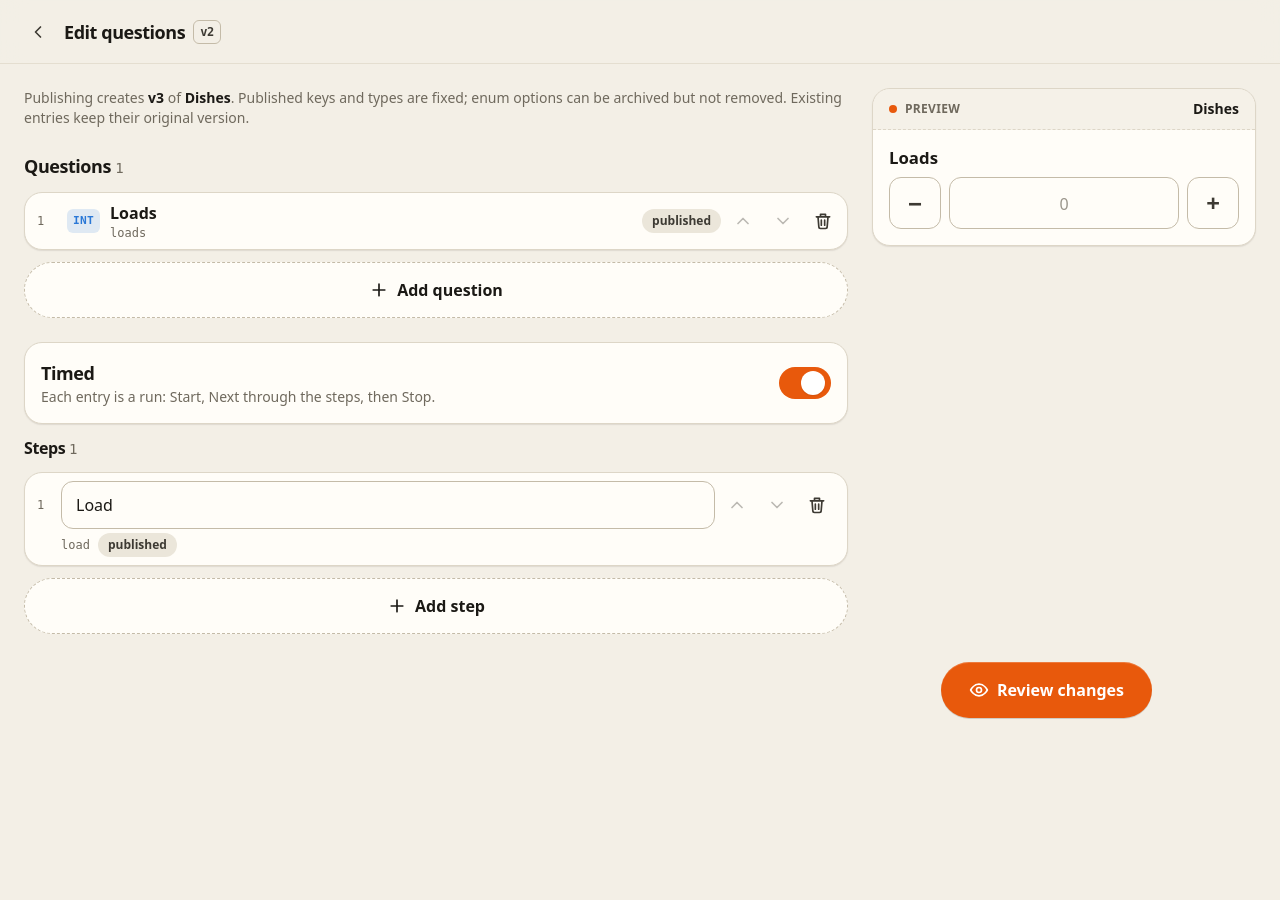
Test case: EditQuestionsPage publish › renames, adds and reorders steps; a published step keeps its key
Replace the text in the field named "Step 1 name" with "Unload" at [388, 505], box [61,481,715,529]
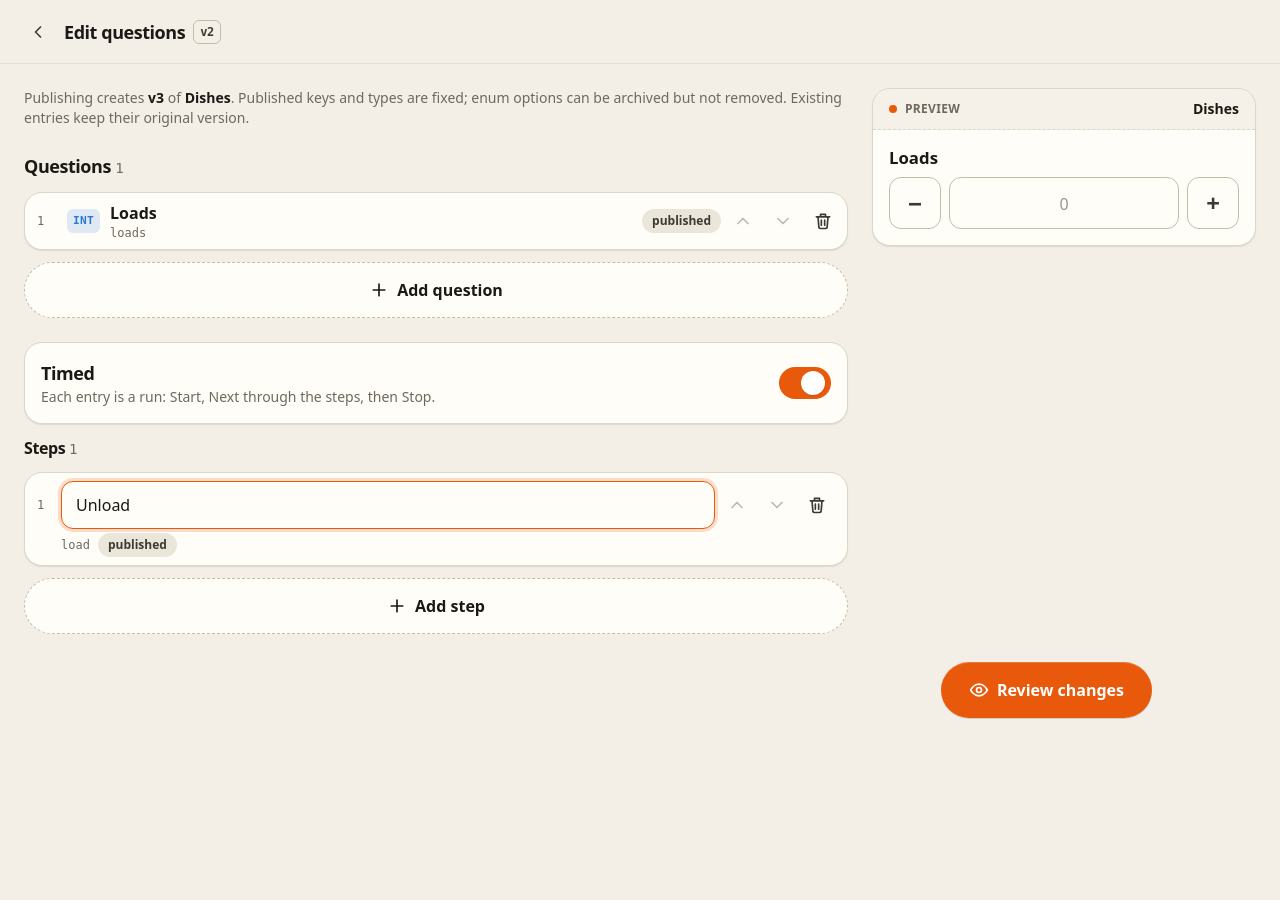
Expected: the elements with test id "step-key" read "load", in this order, [61,537,90,553]
Click the button "Add step" at [436, 606], box [24,578,848,634]
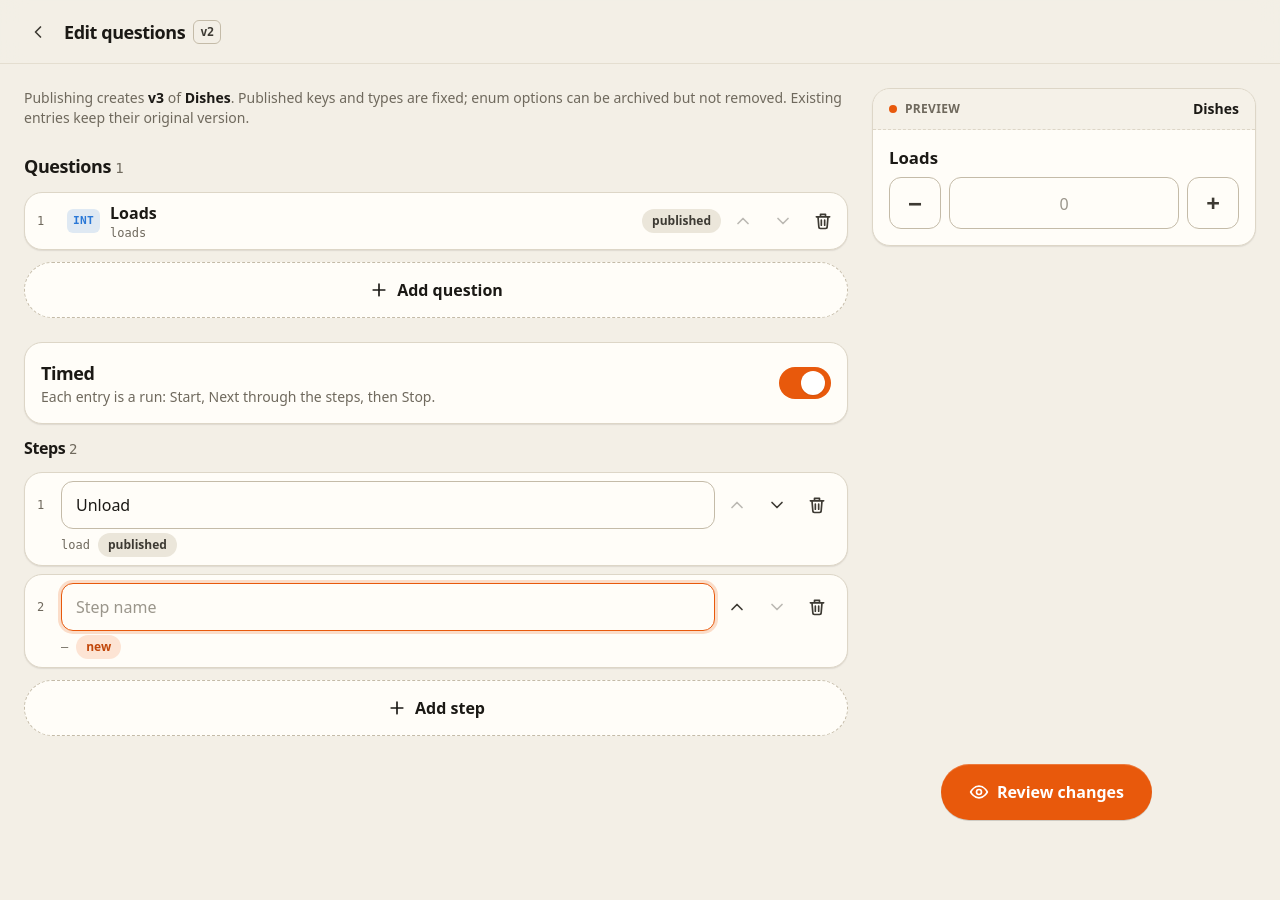
Type "Wipe down" into the field named "Step 2 name" at [388, 607], box [61,583,715,631]
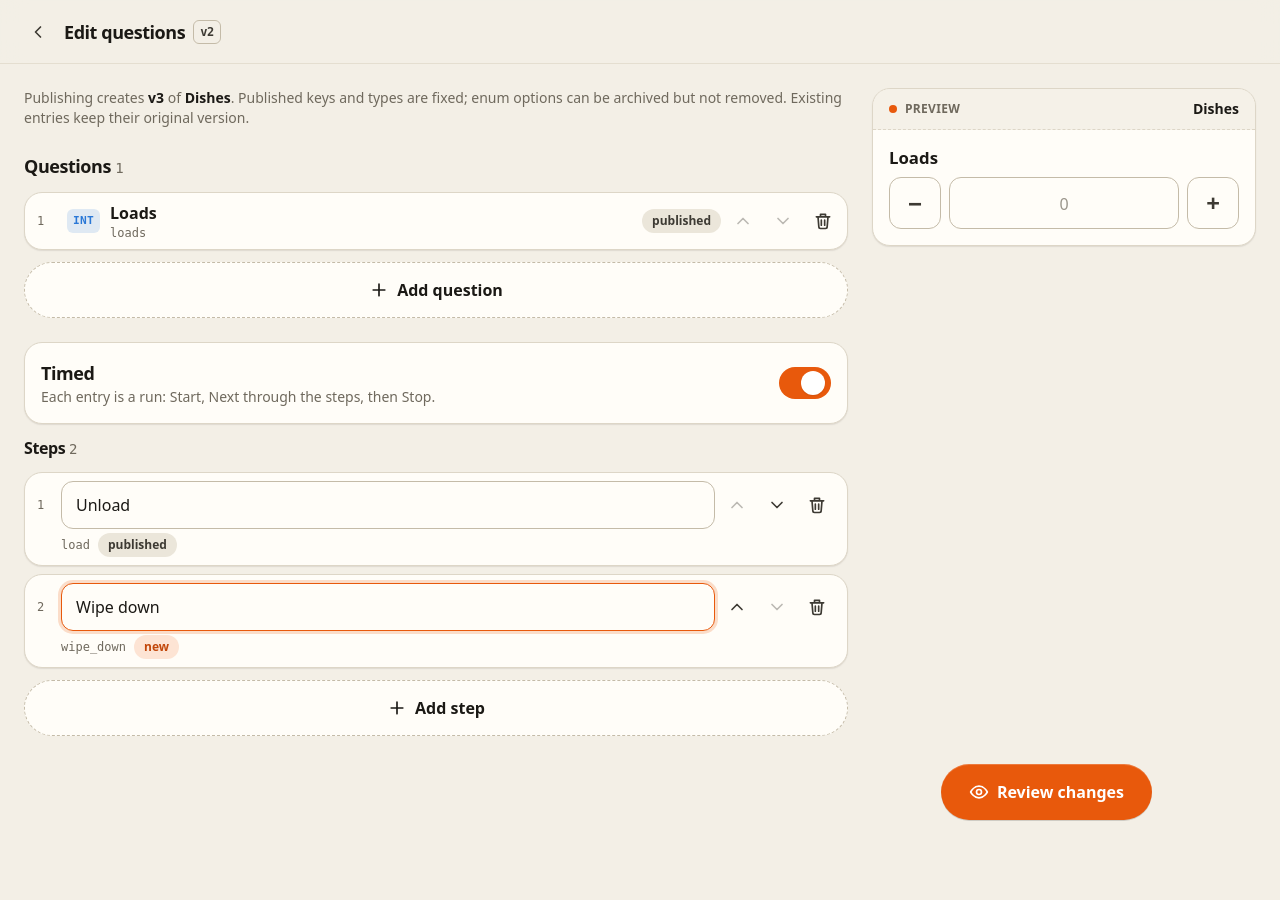
Expected: the elements with test id "step-key" read "load", "wipe_down", in this order, [61,537,90,553]; [61,639,126,655]
Click the button named "Move up: Wipe down (step 2)" at [737, 607], box [719,589,755,625]
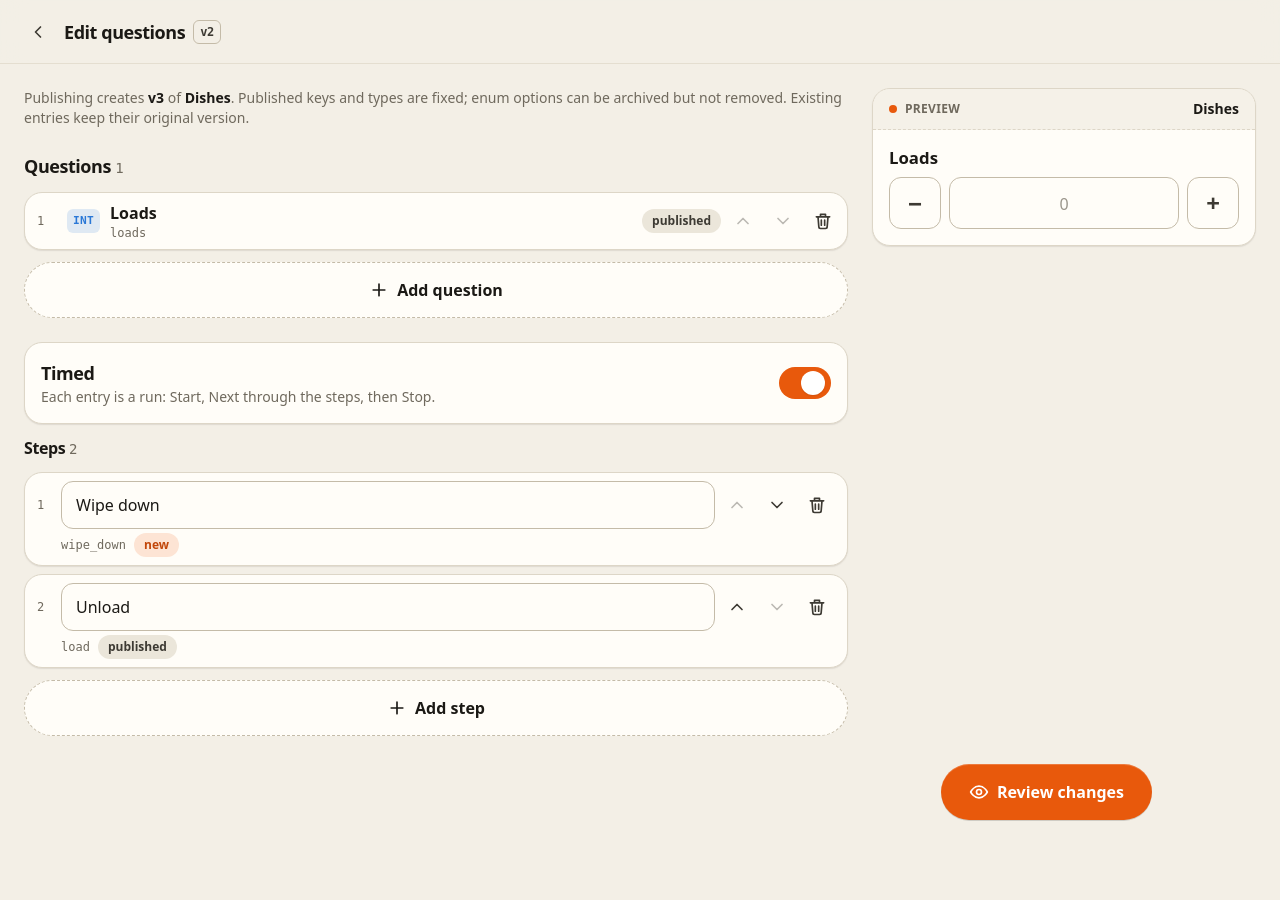
Click the button "Review changes" at [1046, 792], box [941,764,1152,820]
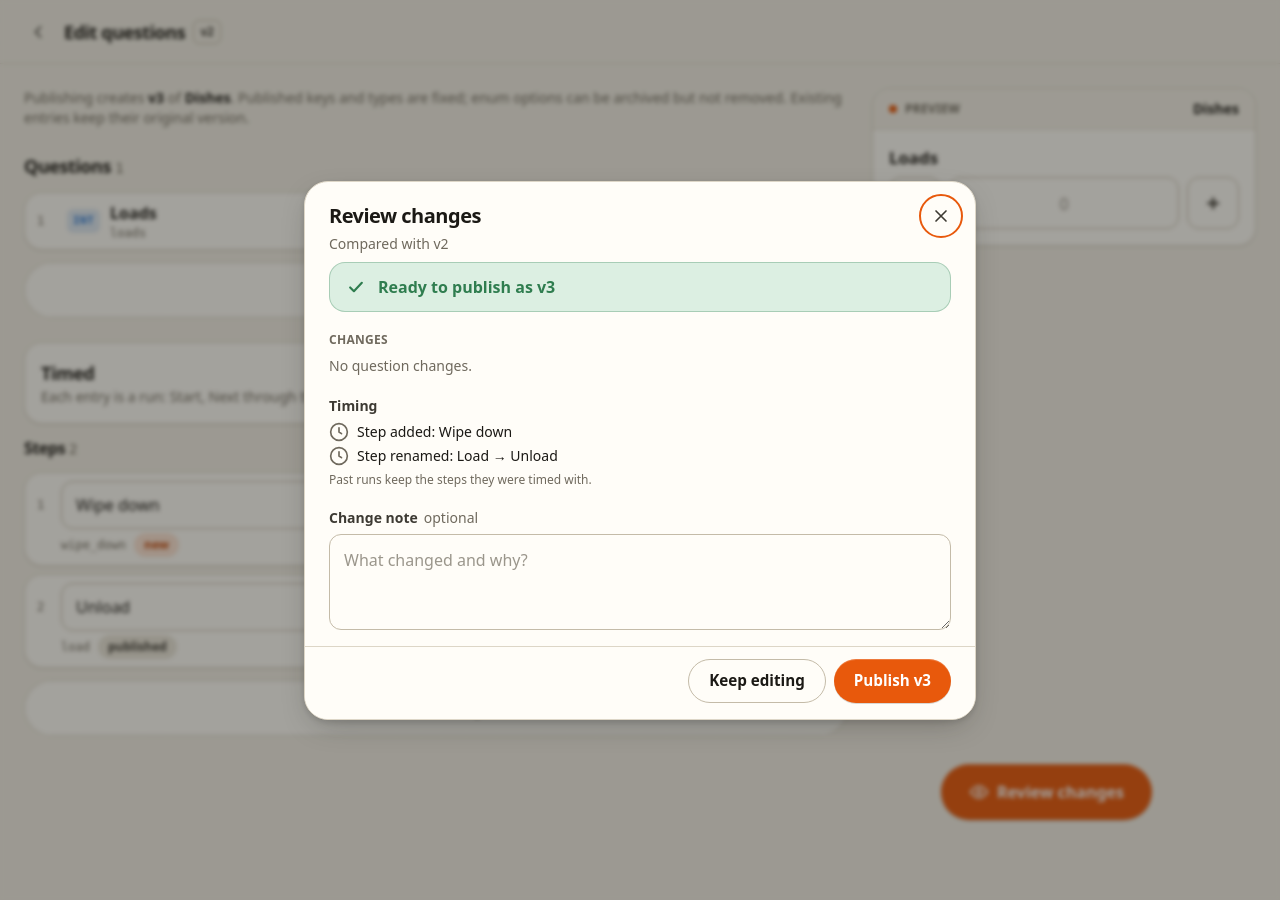
Expected: the list item "Step renamed: Load → Unload" is shown, [329,446,558,466]
Expected: the list item "Step added: Wipe down" is shown, [329,422,512,442]
Expected: the text "No question changes." is shown, [329,356,472,374]
Click the button "Publish v3" at [892, 680], box [834,658,951,702]
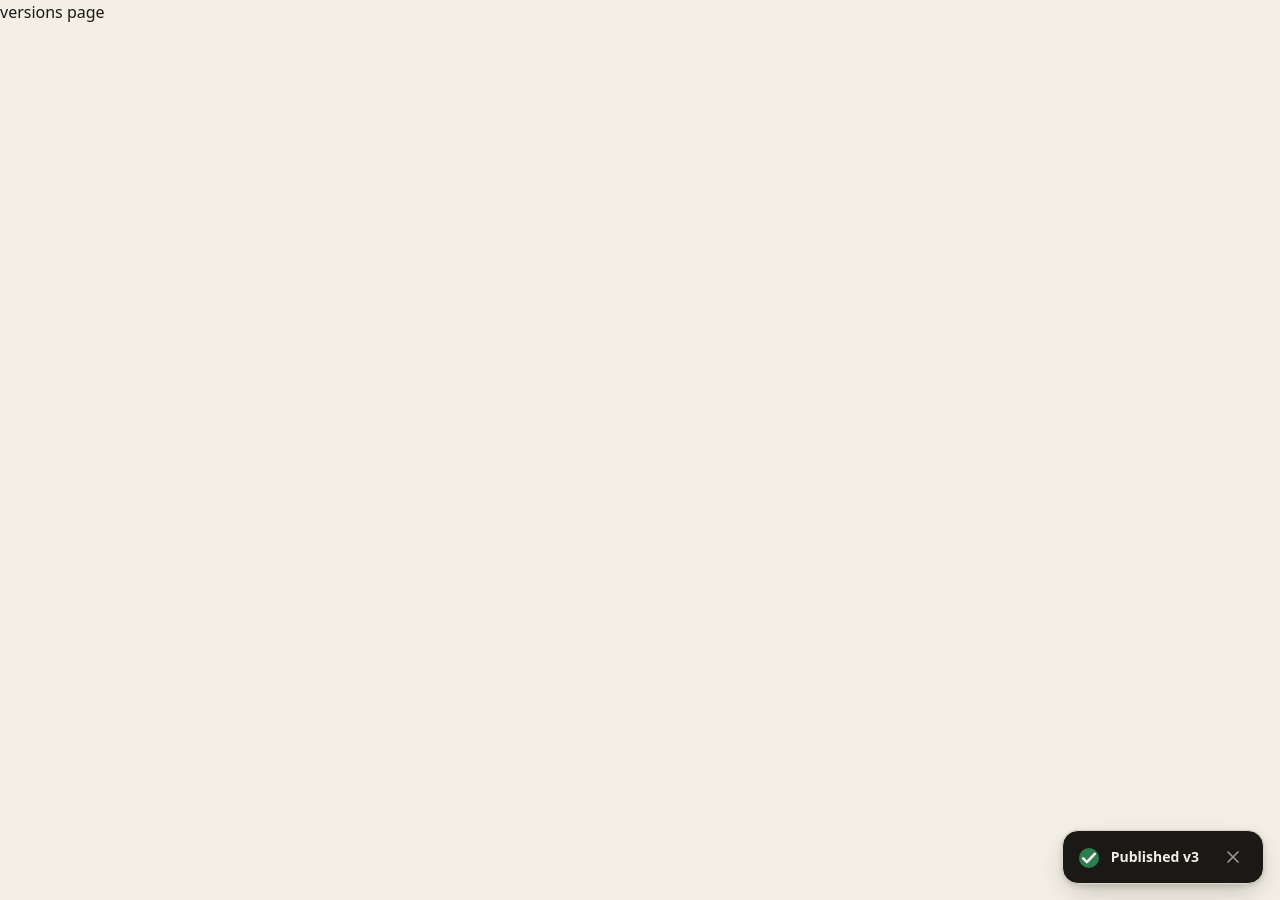
Expected: the text "versions page" is shown, [0,1,105,23]
